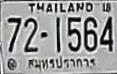1: (56, 17, 60, 52)
2: (23, 17, 37, 51)
4: (99, 16, 112, 50)
5: (67, 16, 80, 51)
6: (84, 16, 97, 51)
7: (7, 17, 20, 51)
SPK: (25, 54, 96, 73)
